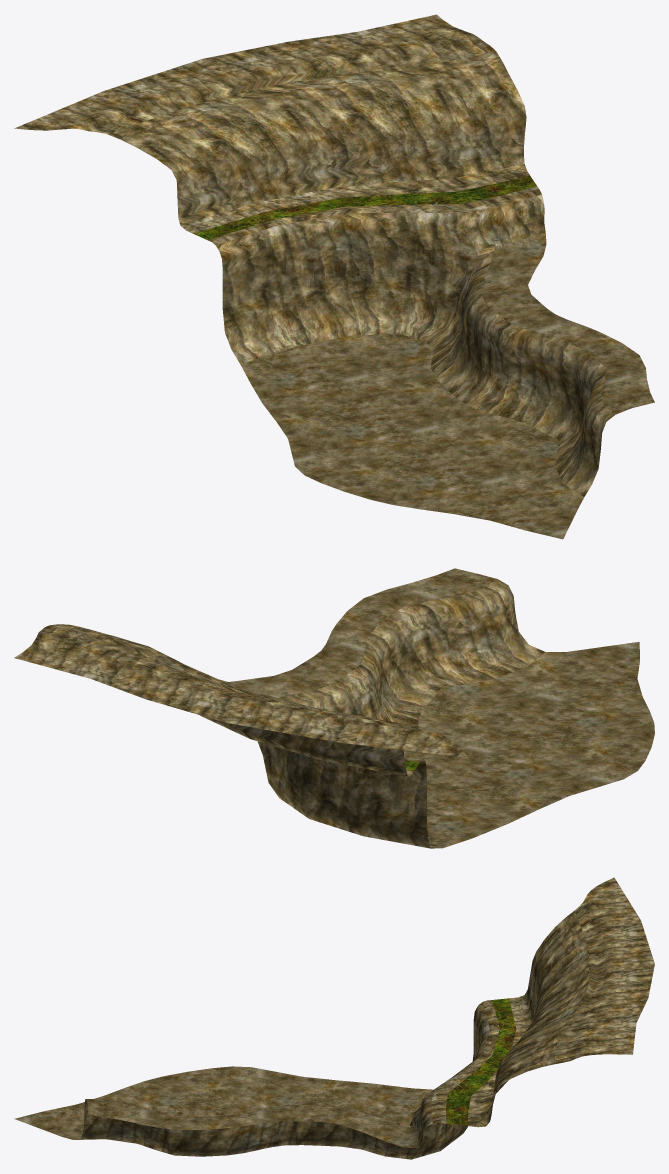
File: RM_PLAYSURFACE_FINAL_RM_PLAYSURFACE07.obj
3 renders of one model, top to bottom at view 1: azimuth 30°, elevation 25°; view 2: azimuth 150°, elevation 25°; view 3: azimuth 270°, elevation 25°, orthographic. The views are drawn at different scales.
Visible parts, largest first — view 1: M_playsurface07; view 2: M_playsurface07; view 3: M_playsurface07.
Part boxes in pixels (x1,y1,x2,y2): M_playsurface07: (14,14,654,539); M_playsurface07: (14,568,654,848); M_playsurface07: (14,877,654,1159).
Size of the model in its own units: 2561 by 1076 by 3802.
